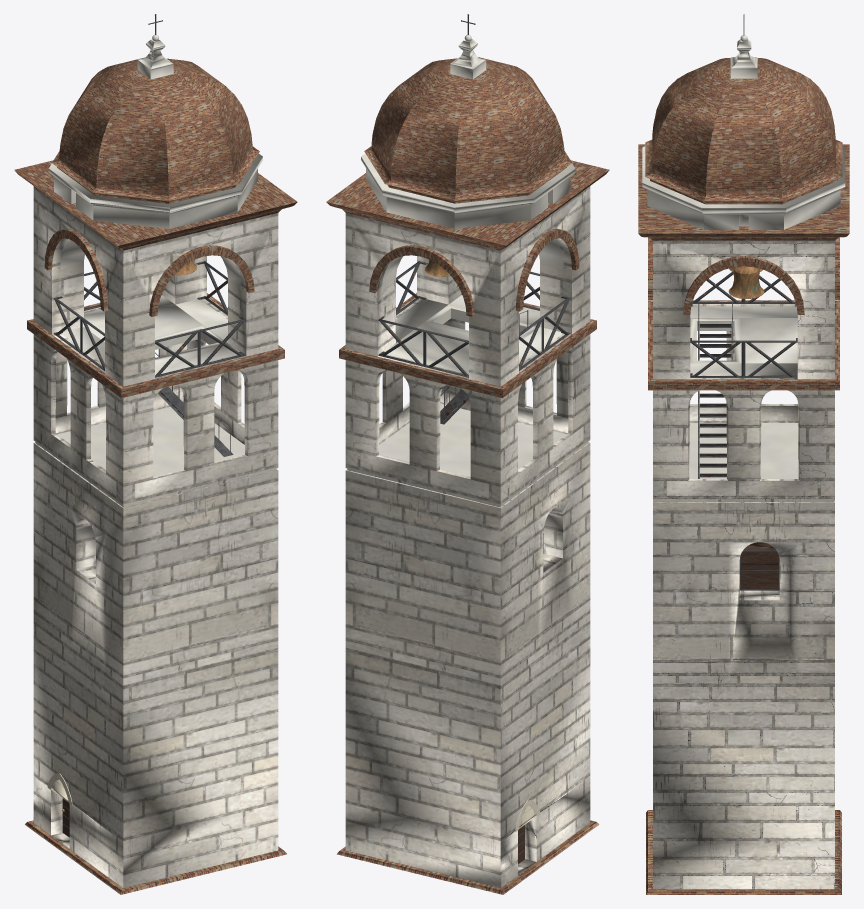
Rendered from campanile.fbx.
3 renders of one model, left to right at view 1: azimuth 30°, elevation 25°; view 2: azimuth 150°, elevation 25°; view 3: azimuth 270°, elevation 25°, orthographic.
Parts seen in each view (by area): view 1: Sezione centrale, Sezione inferiore, Sezione superiore, Cupola, Base cupola, Cornicione cupola, Cornicione centrale, Ringhiera superiore, Archi superiori, Cornicione inferiore, Punta cupola, Gradini scala; view 2: Sezione centrale, Sezione inferiore, Sezione superiore, Cupola, Base cupola, Cornicione cupola, Cornicione centrale, Ringhiera superiore, Archi superiori, Cornicione inferiore, Punta cupola; view 3: Sezione centrale, Sezione inferiore, Cupola, Sezione superiore, Base cupola, Cornicione cupola, Cornicione centrale, Archi superiori, Cornicione inferiore, Ringhiera superiore, Gradini scala, Campana destra (+1 smaller).
Part boxes in pixels (left/top/right/bottom): Sezione centrale: left=33, top=329, right=278, bottom=685; Sezione inferiore: left=33, top=620, right=278, bottom=888; Sezione superiore: left=33, top=186, right=278, bottom=386; Cupola: left=52, top=57, right=259, bottom=203; Base cupola: left=48, top=153, right=262, bottom=228; Cornicione cupola: left=14, top=160, right=297, bottom=250; Cornicione centrale: left=27, top=293, right=284, bottom=398; Ringhiera superiore: left=53, top=261, right=245, bottom=377; Archi superiori: left=44, top=228, right=254, bottom=316; Cornicione inferiore: left=25, top=820, right=286, bottom=894; Punta cupola: left=137, top=39, right=173, bottom=79; Gradini scala: left=158, top=387, right=233, bottom=456; Sezione centrale: left=345, top=308, right=590, bottom=685; Sezione inferiore: left=345, top=620, right=590, bottom=888; Sezione superiore: left=345, top=186, right=590, bottom=386; Cupola: left=364, top=57, right=571, bottom=203; Base cupola: left=361, top=153, right=575, bottom=228; Cornicione cupola: left=326, top=160, right=609, bottom=250; Cornicione centrale: left=339, top=293, right=596, bottom=398; Ringhiera superiore: left=378, top=261, right=570, bottom=377; Archi superiori: left=369, top=228, right=579, bottom=316; Cornicione inferiore: left=337, top=820, right=598, bottom=894; Punta cupola: left=450, top=39, right=486, bottom=79; Sezione centrale: left=653, top=321, right=834, bottom=682; Sezione inferiore: left=653, top=683, right=834, bottom=889; Cupola: left=645, top=58, right=842, bottom=204; Sezione superiore: left=653, top=240, right=834, bottom=379; Base cupola: left=642, top=146, right=845, bottom=229; Cornicione cupola: left=638, top=144, right=849, bottom=240; Cornicione centrale: left=648, top=300, right=839, bottom=390; Archi superiori: left=648, top=237, right=839, bottom=314; Cornicione inferiore: left=646, top=810, right=841, bottom=894; Ringhiera superiore: left=690, top=272, right=797, bottom=377; Gradini scala: left=698, top=322, right=733, bottom=478; Campana destra: left=728, top=266, right=764, bottom=298.
Size of the model in its own units: 650 by 2848 by 650.
